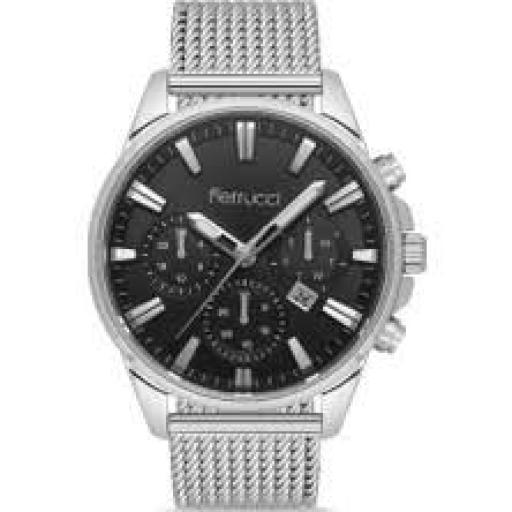KolSaati: (82, 0, 428, 512)
